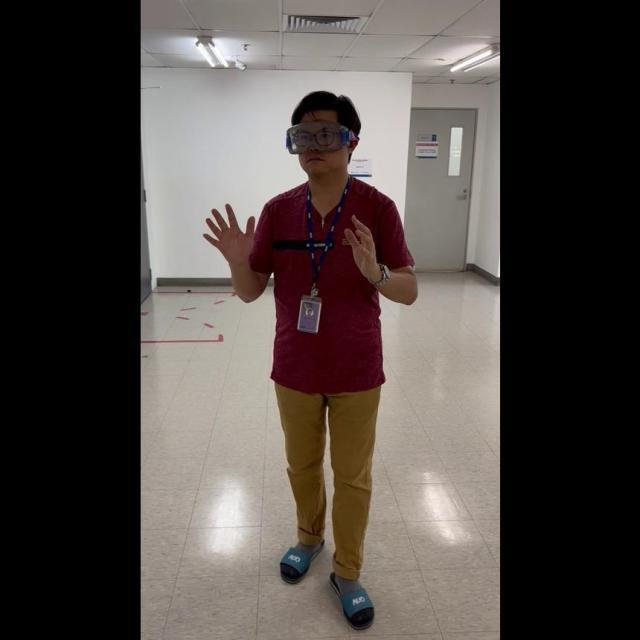bare_hand: (201, 199, 259, 265), (342, 214, 383, 289)
